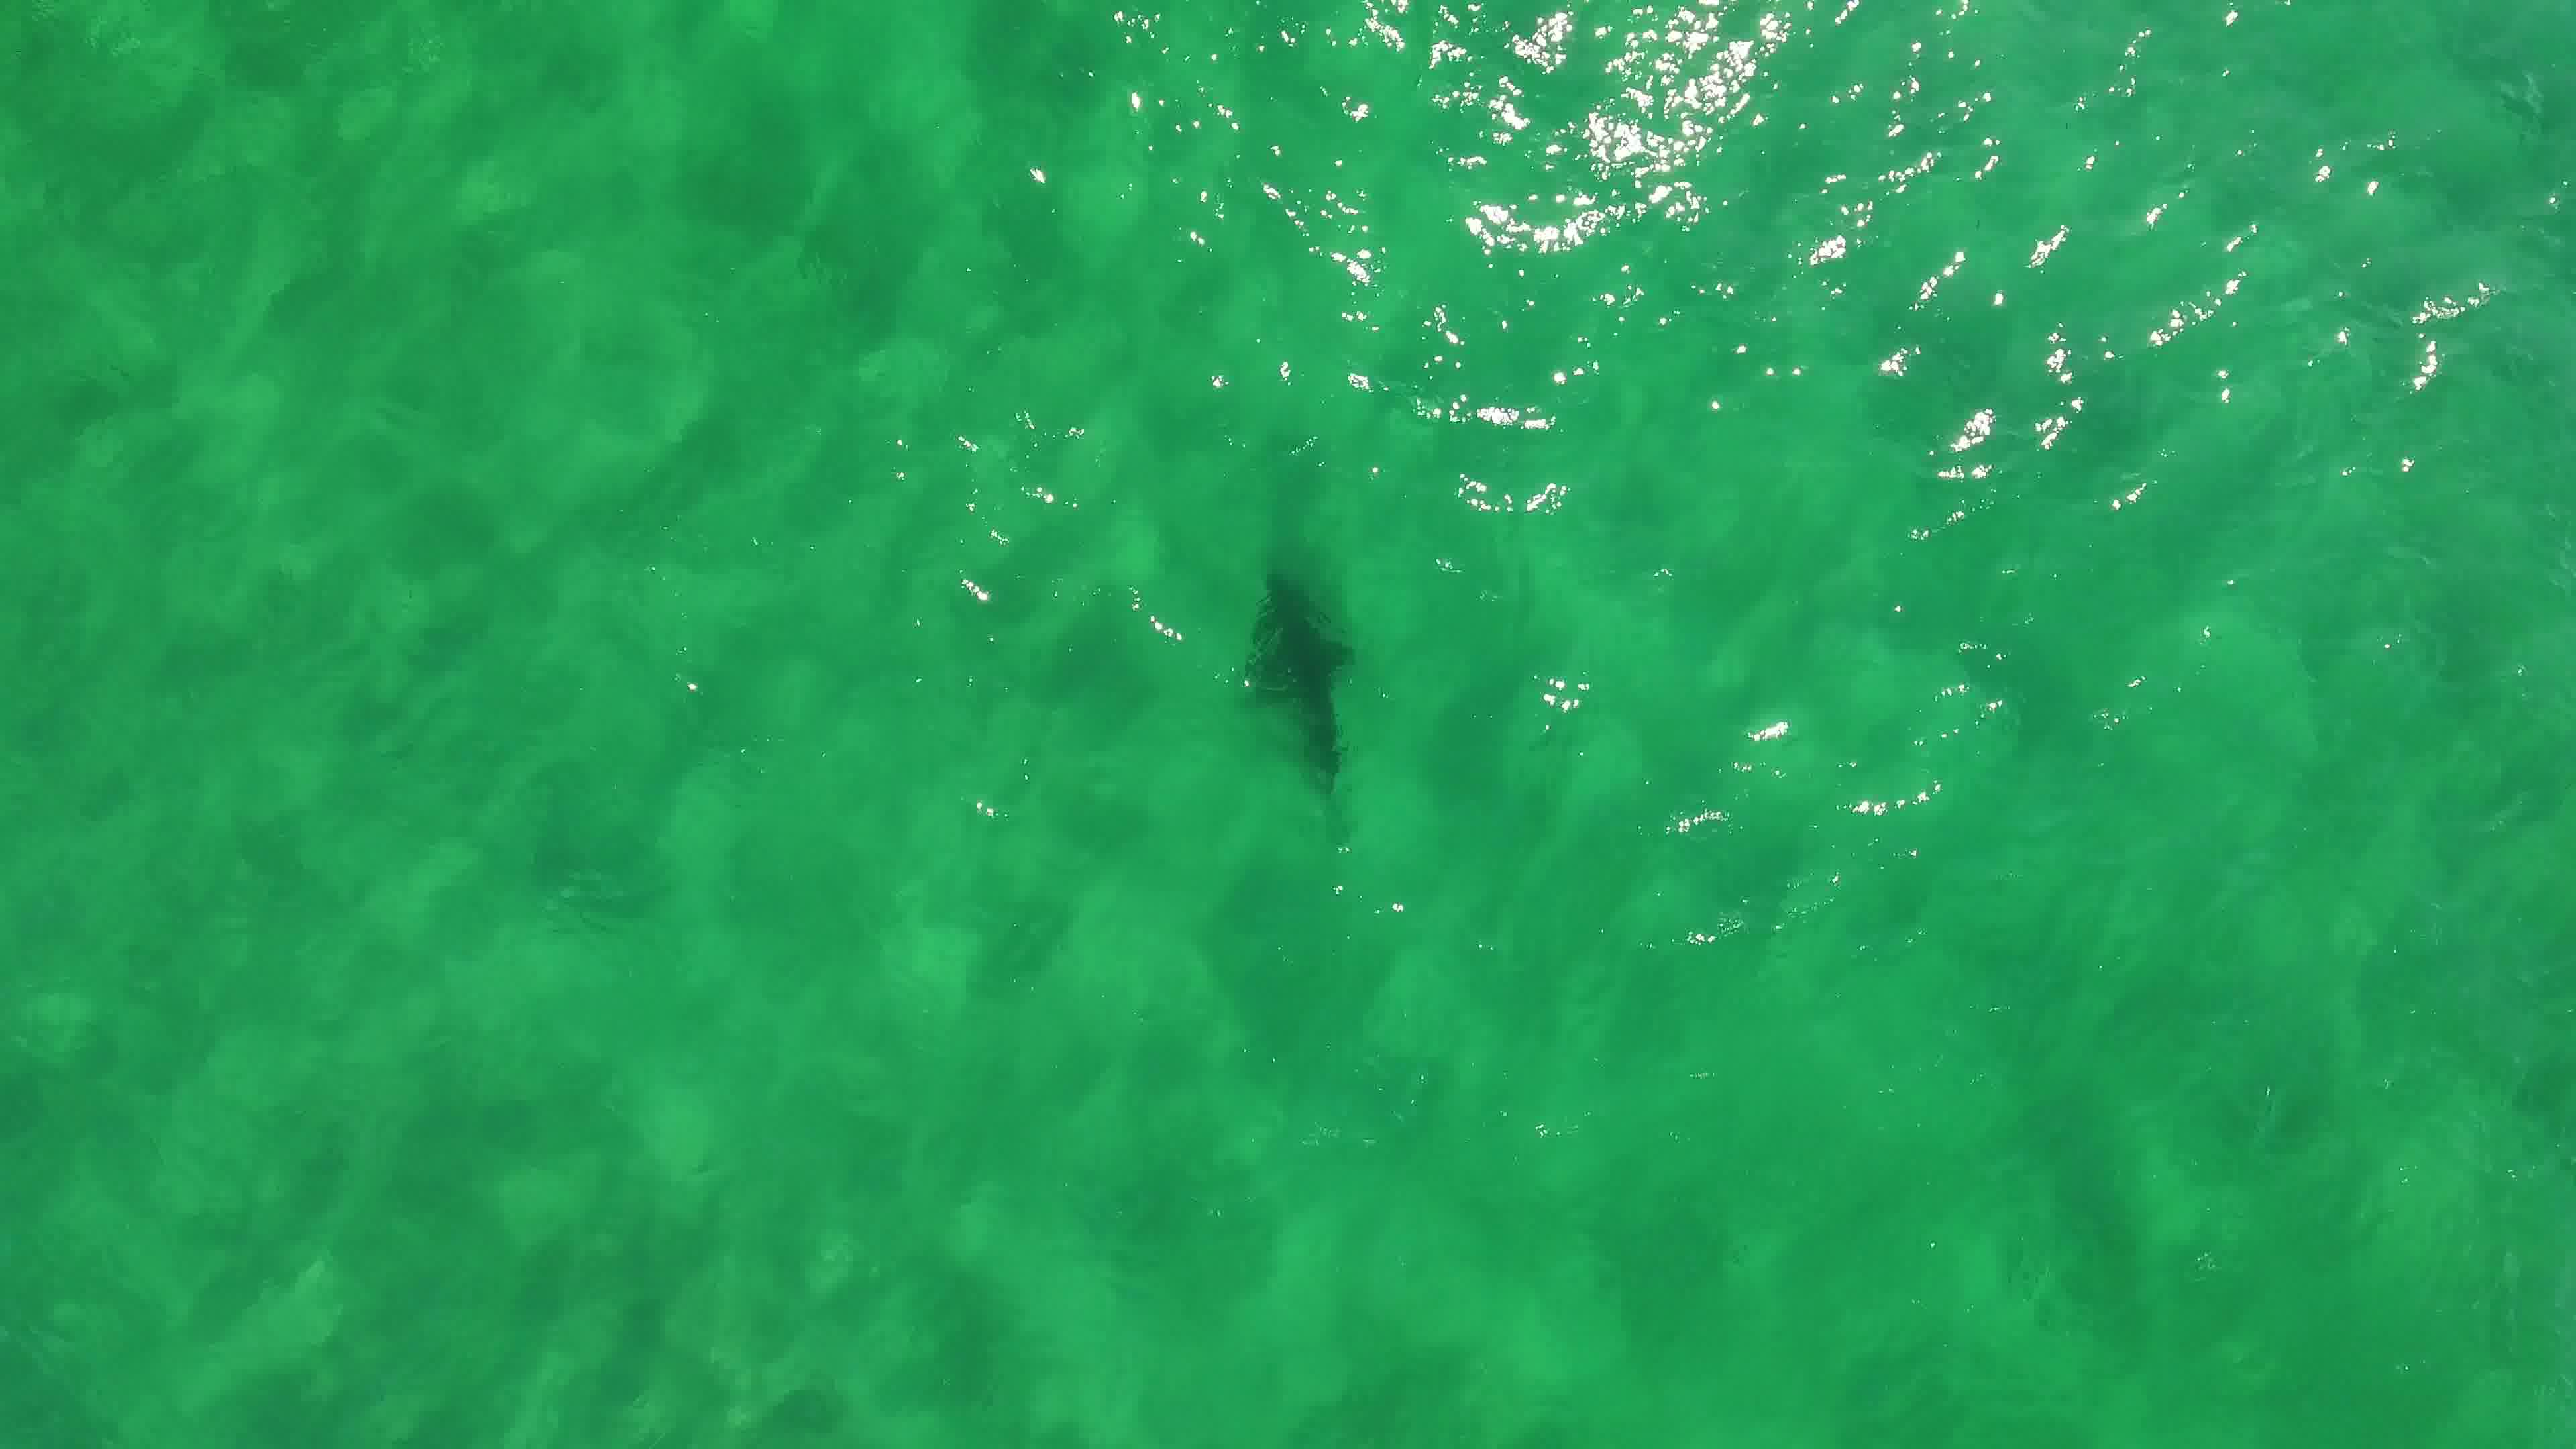shark: (1233, 568, 1361, 787)
